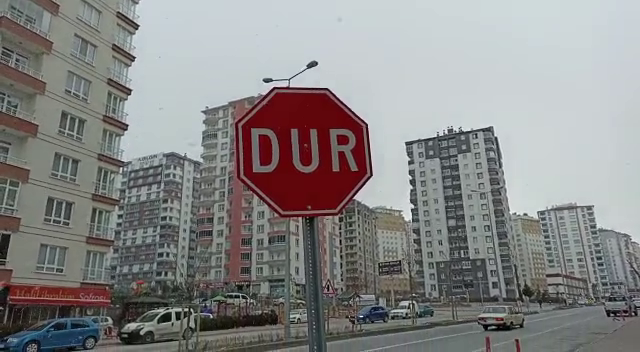stop: (232, 85, 376, 220)
